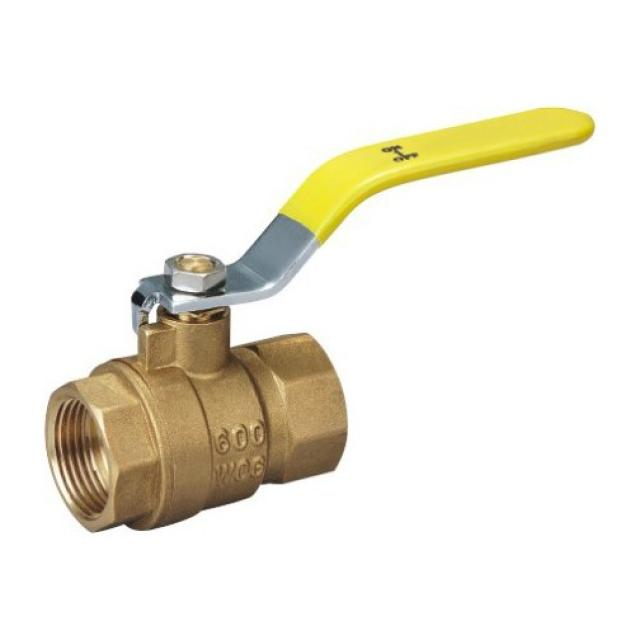Lever Handle Valve Threaded: (121, 99, 604, 333)
